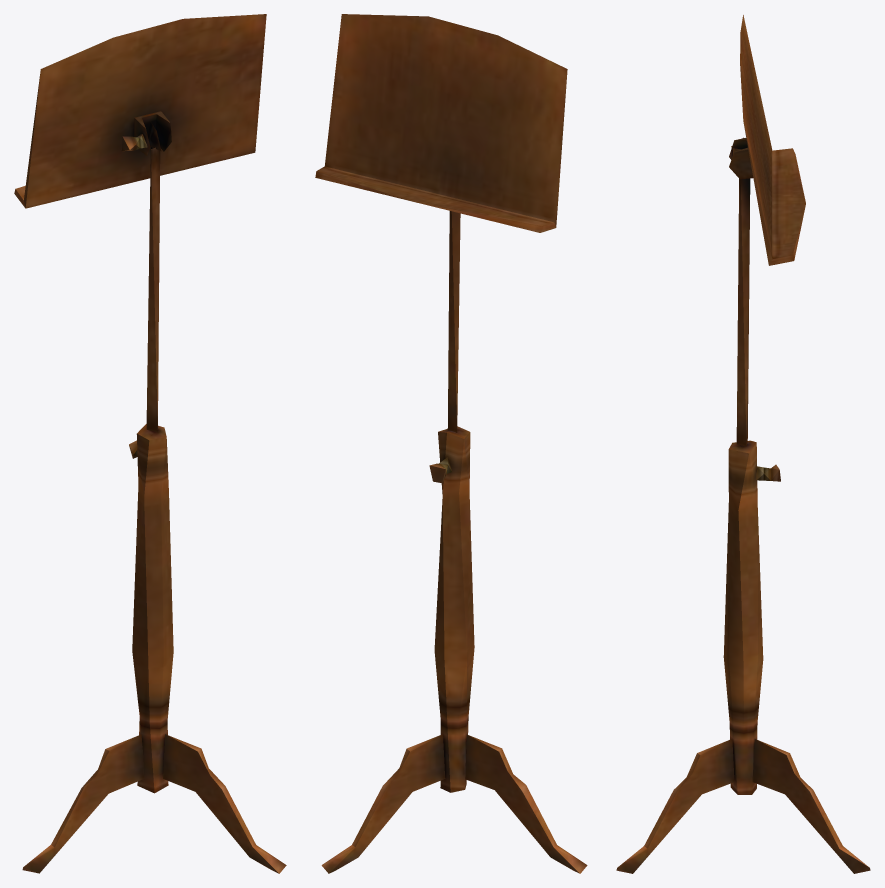
The model's file is lectern.lod1.glb.
3 renders of one model, left to right at view 1: azimuth 30°, elevation 25°; view 2: azimuth 150°, elevation 25°; view 3: azimuth 270°, elevation 25°, orthographic. The views are drawn at different scales.
Visible parts, largest first — view 1: lectern; view 2: lectern; view 3: lectern.
Part boxes in pixels (bbox=[...]): lectern: bbox=[14, 14, 286, 873]; lectern: bbox=[315, 14, 587, 873]; lectern: bbox=[616, 15, 870, 873].
Size of the model in its own units: 0.3789 by 1.2 by 0.3488.
1 material, 1 textured.
